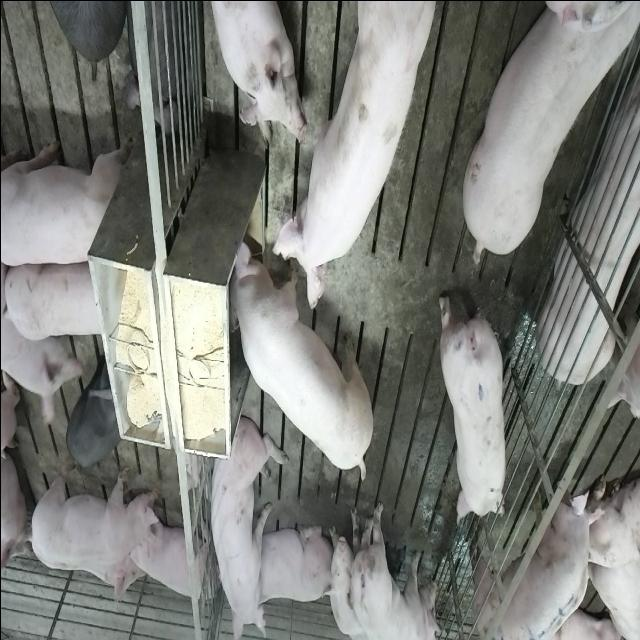Feeding: (271, 6, 444, 322), (219, 226, 369, 478)
Sitting: (203, 412, 284, 636), (326, 496, 440, 638)
Standing: (456, 5, 634, 266), (474, 454, 609, 640), (2, 130, 128, 269), (437, 286, 509, 522), (23, 460, 158, 562), (3, 256, 112, 340), (62, 362, 120, 469)
Sternal_lying: (540, 50, 640, 415), (202, 0, 302, 145), (132, 508, 210, 606), (250, 519, 330, 605)
